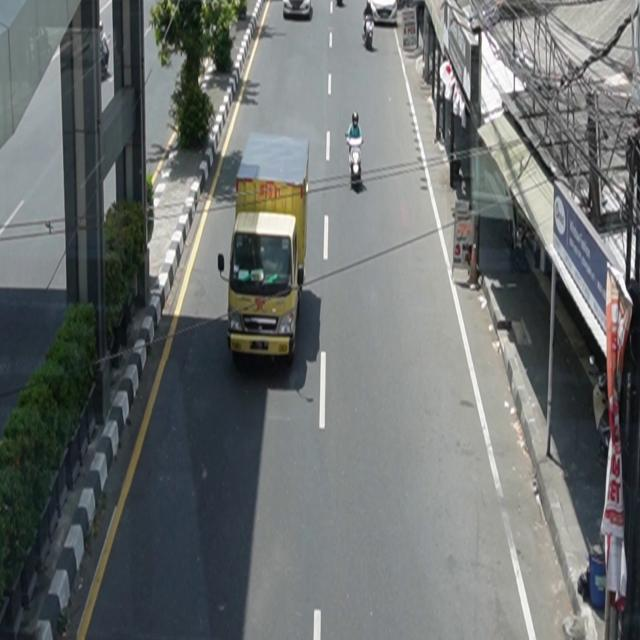car: (284, 1, 313, 20)
truck: (218, 133, 311, 366)
